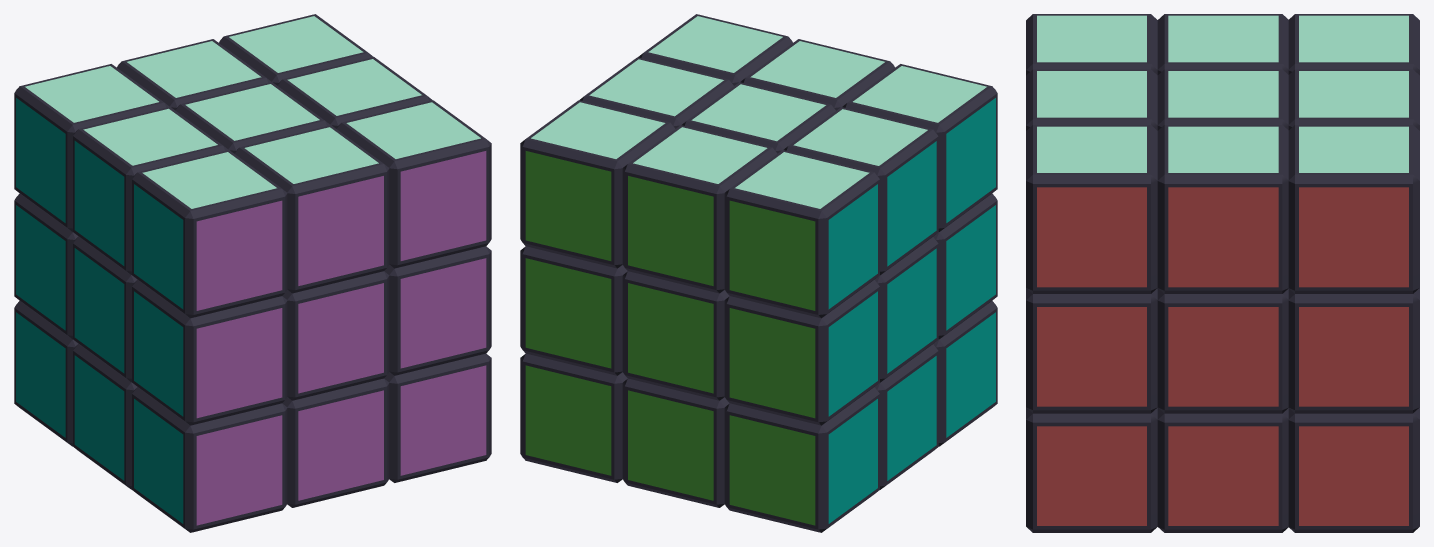
File: Rubix.fbx
3 views of the same model, side by side, from view 1: azimuth 30°, elevation 25°; view 2: azimuth 150°, elevation 25°; view 3: azimuth 270°, elevation 25° (orthographic). The views are drawn at different scales.
Visible parts, largest first — view 1: pCube7 (×2), pCube4 (×2), pCube8 (×2), pCube9 (×2), pCube19, pCube2, pCube10, pCube15, pCube18, pCube20, pCube21, pCube1 (+3 smaller); view 2: pCube9 (×2), pCube6 (×2), pCube7 (×2), pCube8 (×2), pCube21, pCube3, pCube12, pCube13, pCube17, pCube19, pCube20, pCube2 (+3 smaller); view 3: pCube1, pCube3, pCube2, pCube10, pCube12, pCube14, pCube11, pCube15, pCube13, pCube4, pCube6, pCube5 (+3 smaller).
Part boxes in pixels (x1=…): pCube7 (×2): x1=132, y1=150, x2=287, y2=425; pCube4 (×2): x1=234, y1=125, x2=389, y2=400; pCube8 (×2): x1=73, y1=107, x2=227, y2=382; pCube9 (×2): x1=14, y1=64, x2=169, y2=339; pCube19: x1=132, y1=387, x2=287, y2=532; pCube2: x1=336, y1=100, x2=491, y2=268; pCube10: x1=384, y1=246, x2=491, y2=375; pCube15: x1=384, y1=353, x2=491, y2=482; pCube18: x1=282, y1=378, x2=389, y2=507; pCube20: x1=73, y1=344, x2=136, y2=489; pCube21: x1=14, y1=301, x2=77, y2=446; pCube1: x1=277, y1=57, x2=432, y2=128; pCube9 (×2): x1=724, y1=150, x2=879, y2=425; pCube6 (×2): x1=622, y1=125, x2=777, y2=400; pCube7 (×2): x1=842, y1=64, x2=997, y2=339; pCube8 (×2): x1=783, y1=107, x2=938, y2=382; pCube21: x1=724, y1=387, x2=879, y2=532; pCube3: x1=520, y1=100, x2=675, y2=268; pCube12: x1=520, y1=246, x2=627, y2=375; pCube13: x1=520, y1=353, x2=627, y2=482; pCube17: x1=622, y1=378, x2=729, y2=507; pCube19: x1=933, y1=301, x2=997, y2=446; pCube20: x1=875, y1=344, x2=938, y2=489; pCube2: x1=638, y1=14, x2=792, y2=85; pCube1: x1=1157, y1=125, x2=1288, y2=293; pCube3: x1=1288, y1=125, x2=1419, y2=293; pCube2: x1=1026, y1=125, x2=1157, y2=293; pCube10: x1=1026, y1=288, x2=1157, y2=413; pCube12: x1=1288, y1=288, x2=1419, y2=413; pCube14: x1=1157, y1=408, x2=1288, y2=532; pCube11: x1=1157, y1=288, x2=1288, y2=413; pCube15: x1=1026, y1=407, x2=1157, y2=532; pCube13: x1=1288, y1=407, x2=1419, y2=532; pCube4: x1=1026, y1=69, x2=1157, y2=130; pCube6: x1=1288, y1=69, x2=1419, y2=130; pCube5: x1=1157, y1=69, x2=1288, y2=130.
Bounding box in the file's own units: 2.99 × 3 × 2.99.
